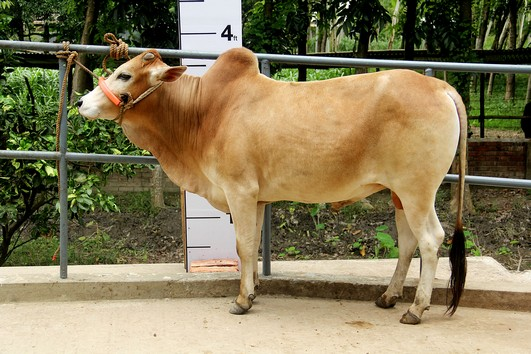cow: (71, 43, 472, 328)
